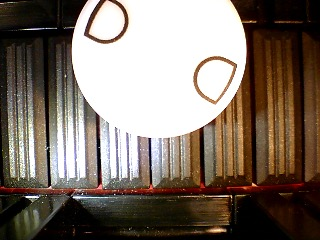MIPO2: (71, 1, 247, 139)
